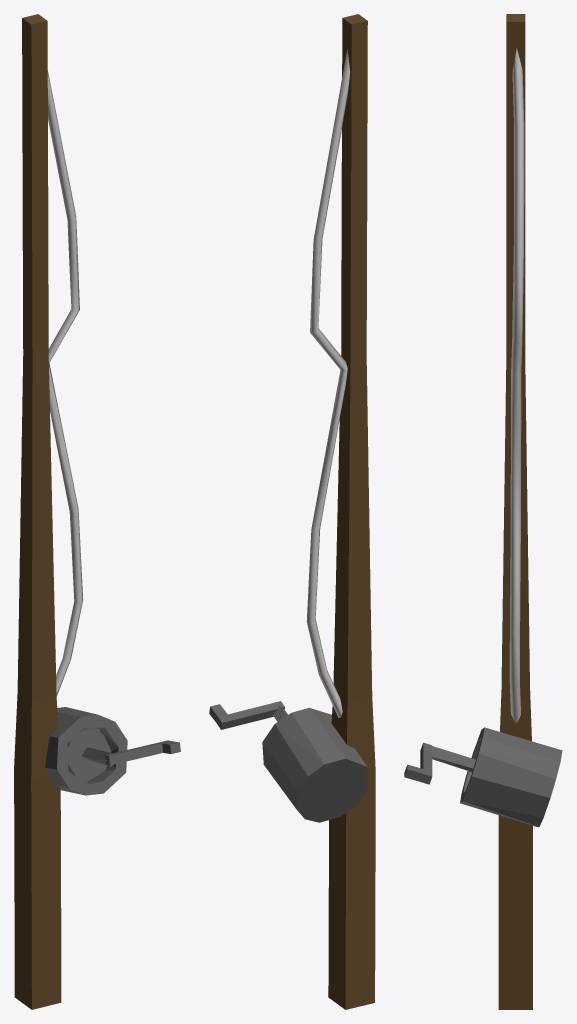
The model's file is rod.fbx.
3 views of the same model, side by side, from view 1: azimuth 30°, elevation 25°; view 2: azimuth 210°, elevation 25°; view 3: azimuth 270°, elevation 25° (orthographic).
Parts seen in each view (by area): view 1: Cylinder; view 2: Cylinder; view 3: Cylinder.
Boxes of the visible parts, x1,y1,x2,y2 form: Cylinder: (14, 14, 180, 1009); Cylinder: (209, 14, 375, 1009); Cylinder: (404, 14, 562, 1009).
Bounding box in the file's own units: 46.95 × 425 × 61.87.
